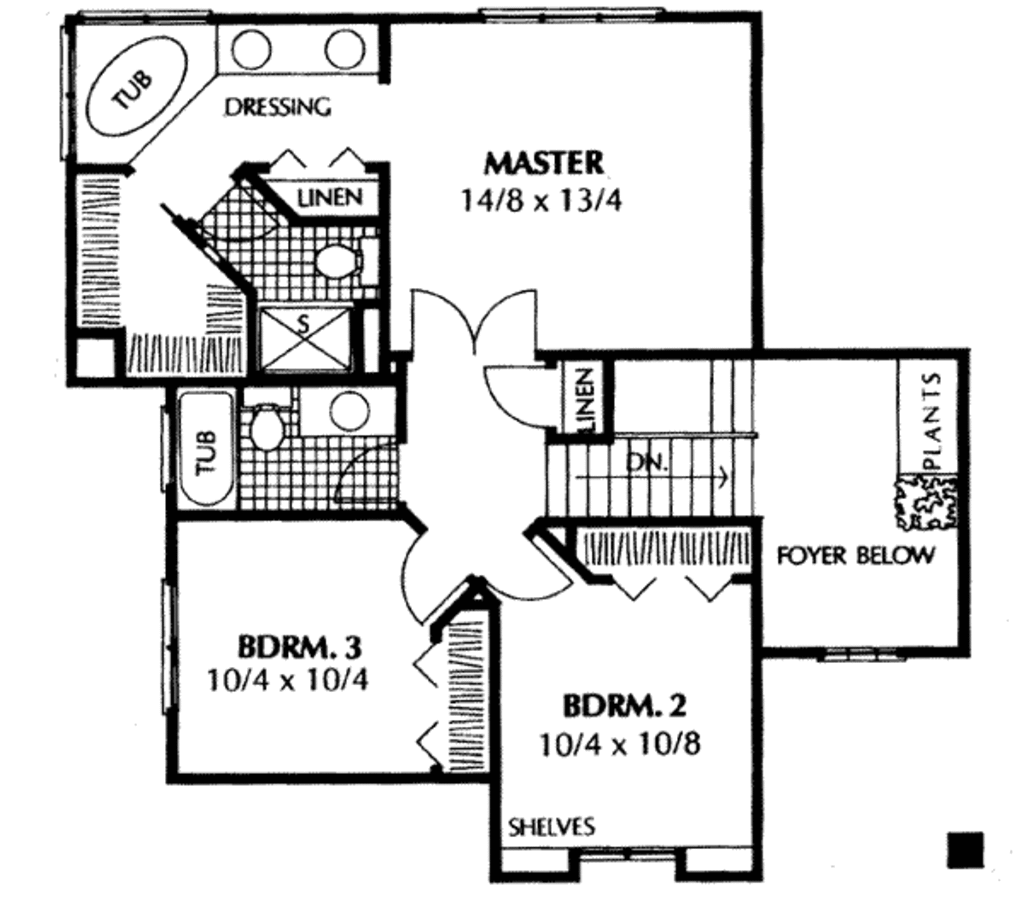door: (389, 285, 551, 364), (482, 519, 573, 606), (398, 531, 475, 631), (326, 438, 408, 517), (481, 364, 568, 430)
large_sink: (238, 389, 303, 457), (308, 231, 381, 285)
small_sink: (220, 21, 384, 78), (300, 383, 396, 442)
stairs: (554, 352, 778, 524)
tub: (77, 23, 198, 134), (179, 386, 238, 507)
window: (482, 1, 668, 27), (153, 575, 184, 714), (826, 648, 905, 665)
